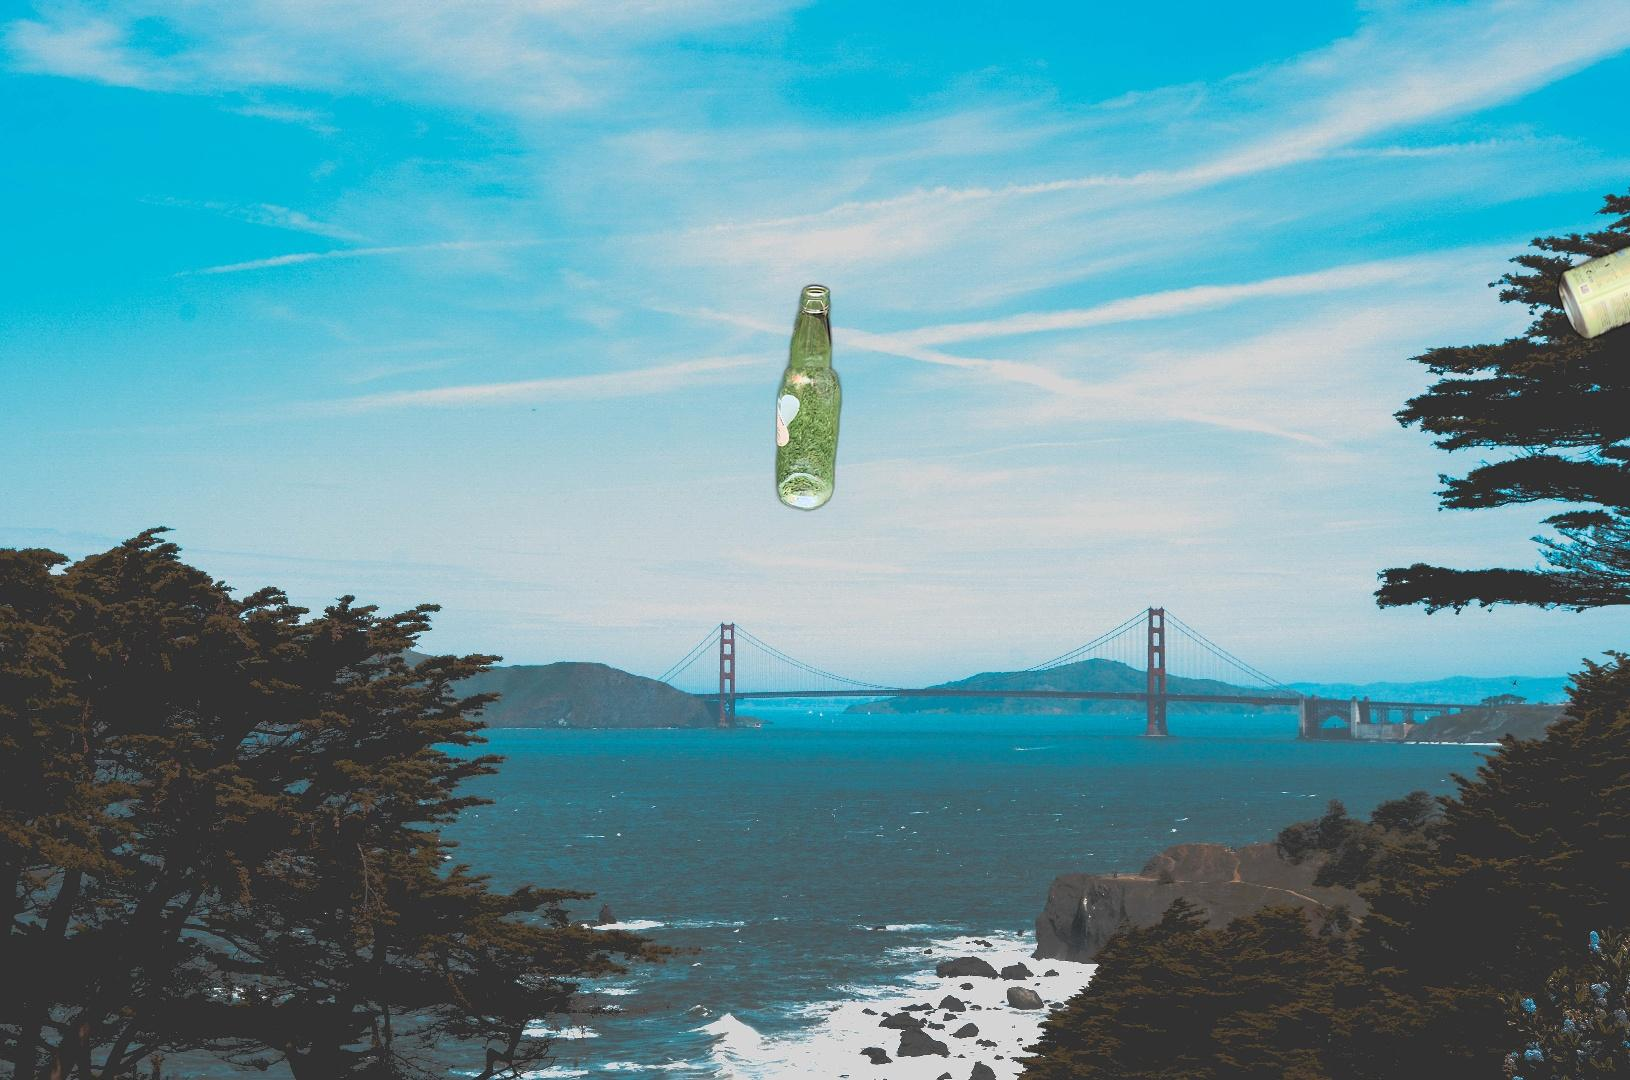glass: (772, 278, 846, 516)
metal-cans: (1553, 234, 1630, 346)
